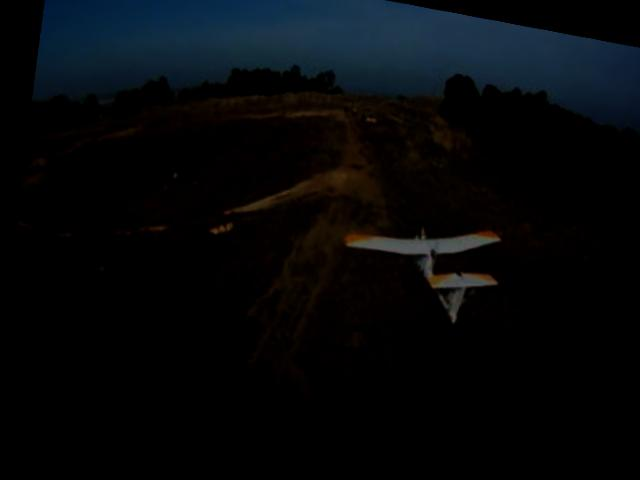uav: (318, 192, 516, 345)
